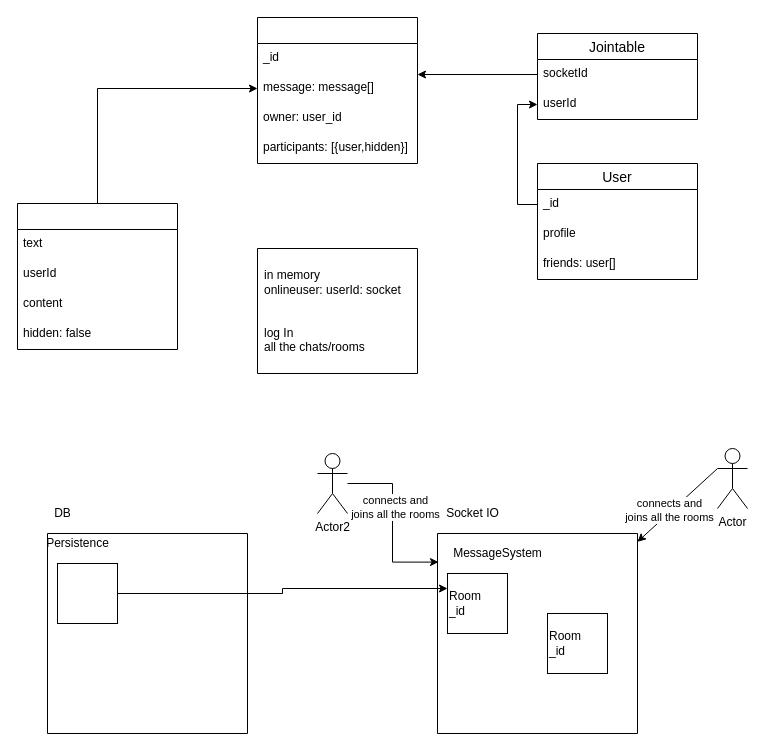
Some shapes in this 765 by 751 pixel diagram are drawn without their labels. Each missing label, with the box of its shape:
Chat _id: (56, 562, 118, 624)
Message: (16, 202, 178, 350)
Room/Chat: (256, 16, 418, 164)
